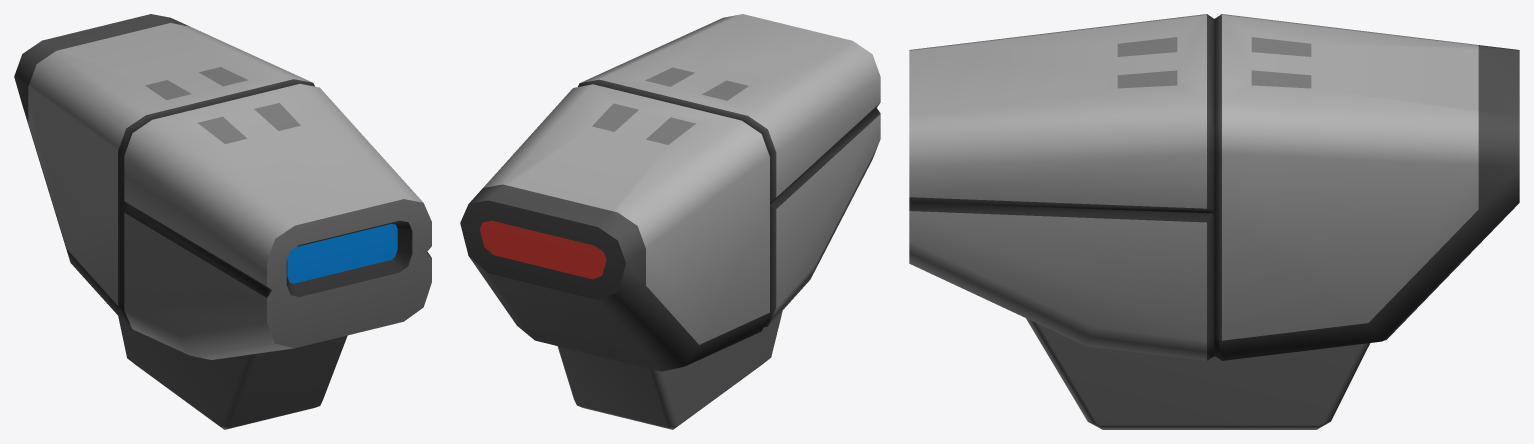
The model's file is Delivery_drone_010.fbx.
3 renders of one model, left to right at view 1: azimuth 30°, elevation 25°; view 2: azimuth 150°, elevation 25°; view 3: azimuth 270°, elevation 25°, orthographic. The views are drawn at different scales.
Visible parts, largest first — view 1: Delivery_drone_010; view 2: Delivery_drone_010; view 3: Delivery_drone_010.
Part boxes in pixels (<box>): Delivery_drone_010: <box>14,14,431,429</box>; Delivery_drone_010: <box>460,14,880,429</box>; Delivery_drone_010: <box>909,14,1519,429</box>.
Size of the model in its own units: 46.89 by 101 by 62.83.
